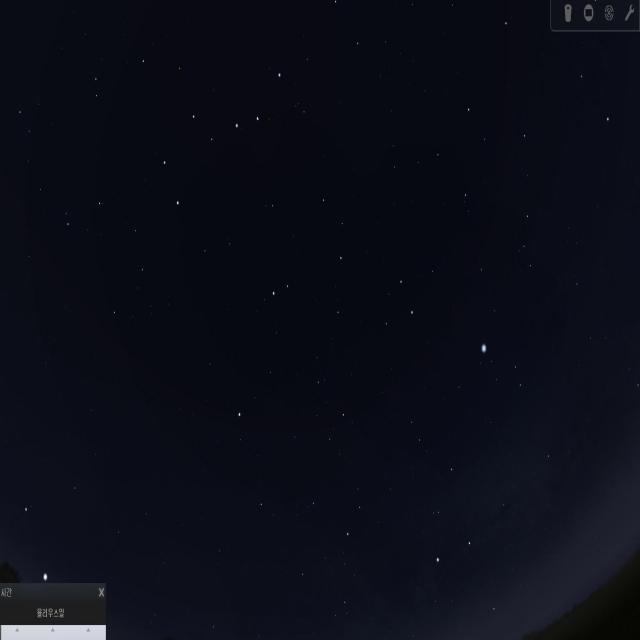cygnus: (428, 452, 560, 617)
lyra: (476, 332, 525, 401)
ursa_major: (158, 56, 290, 211)
